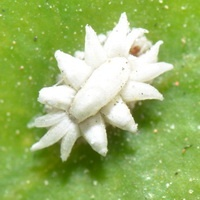insect: (28, 12, 172, 160)
